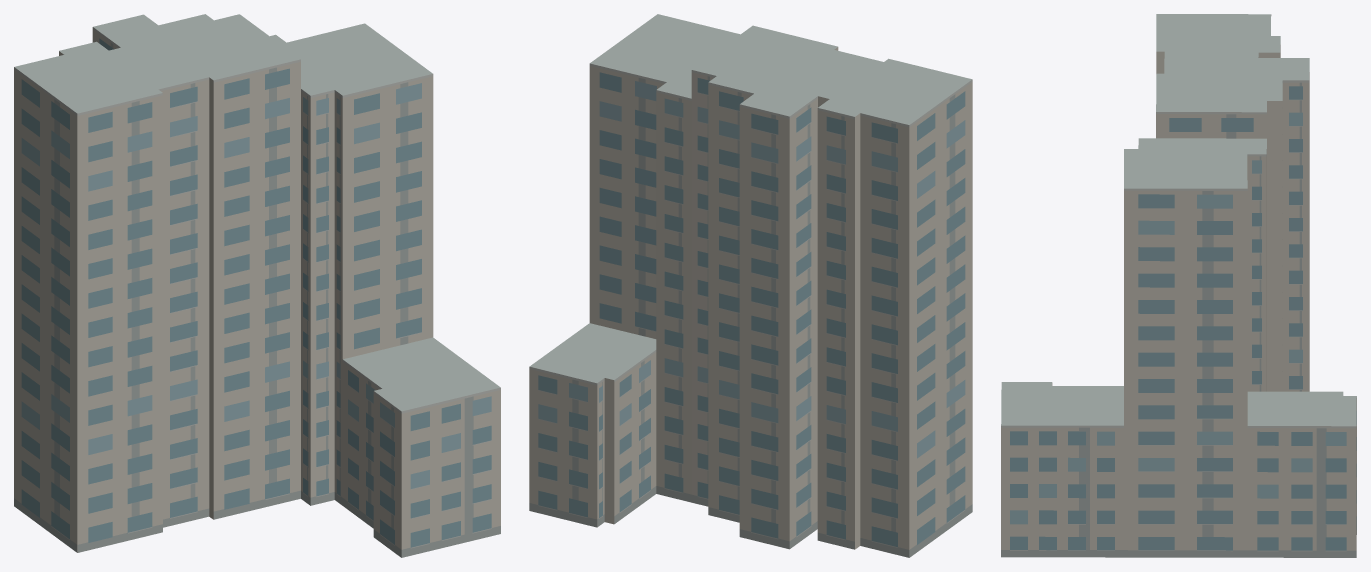
Rendered from residential-ba6e581a-3203-4040-9aca-f035e8c77d45.glb.
3 views of the same model, side by side, from view 1: azimuth 30°, elevation 25°; view 2: azimuth 150°, elevation 25°; view 3: azimuth 270°, elevation 25° (orthographic). The views are drawn at different scales.
Visible parts, largest first — view 1: residential-ba6e581a-3203-4040-9aca-f035e8c77d45.tmp; view 2: residential-ba6e581a-3203-4040-9aca-f035e8c77d45.tmp; view 3: residential-ba6e581a-3203-4040-9aca-f035e8c77d45.tmp.
Boxes of the visible parts, left/top/right/bottom form: residential-ba6e581a-3203-4040-9aca-f035e8c77d45.tmp: left=14, top=14, right=500, bottom=557; residential-ba6e581a-3203-4040-9aca-f035e8c77d45.tmp: left=529, top=14, right=972, bottom=557; residential-ba6e581a-3203-4040-9aca-f035e8c77d45.tmp: left=1001, top=14, right=1356, bottom=557.
Bounding box in the file's own units: 36.93 × 45.75 × 37.33.
